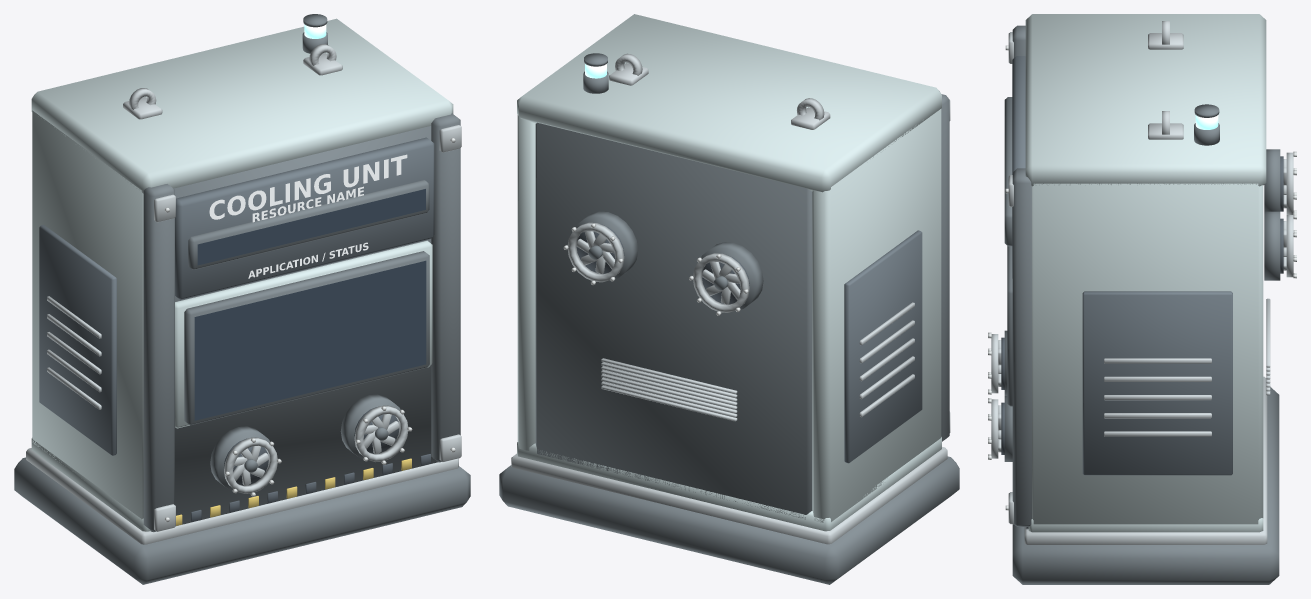
File: cooling_unit_standard.glb
3 views of the same model, side by side, from view 1: azimuth 30°, elevation 25°; view 2: azimuth 150°, elevation 25°; view 3: azimuth 270°, elevation 25° (orthographic). The views are drawn at different scales.
Parts seen in each view (by area): view 1: Roof_ice, LiveViewSurface_glass, SideWall_ice, SealFront_frame, CornerPost_frame, Skid_frame, FrontHeader_graphite, SideServicePanel_graphite, SkidDeck_steel, LiveViewSurfaceFrame_frame, ResourceNameSurface_glass, ScreenSupport_ice (+14 smaller); view 2: BackWall_frame, Roof_ice, SideWall_ice, Skid_frame, SideServicePanel_graphite, SkidDeck_steel, KickPlate_ice, RearFan_steel, RearVent_steel, CornerPost_frame, RearFan_frame, SideLouver_steel (+3 smaller); view 3: SideWall_ice, Roof_ice, SideServicePanel_graphite, Skid_frame, CornerPost_frame, SkidDeck_steel, SideLouver_steel, RearFan_frame, KickPlate_ice, FrontHeader_graphite, RearFan_steel, IntakeFan_steel (+9 smaller).
Boxes of the visible parts, box(x1,y1,x2,y2) form: Roof_ice: box(31, 18, 453, 193); LiveViewSurface_glass: box(194, 260, 426, 420); SideWall_ice: box(32, 110, 143, 519); SealFront_frame: box(150, 126, 438, 531); CornerPost_frame: box(143, 113, 460, 532); Skid_frame: box(14, 457, 470, 584); FrontHeader_graphite: box(175, 137, 434, 299); SideServicePanel_graphite: box(39, 224, 116, 455); SkidDeck_steel: box(26, 448, 458, 544); LiveViewSurfaceFrame_frame: box(184, 251, 429, 425); ResourceNameSurface_glass: box(197, 189, 425, 265); ScreenSupport_ice: box(175, 240, 432, 428); BackWall_frame: box(535, 122, 812, 519); Roof_ice: box(517, 14, 941, 192); SideWall_ice: box(517, 109, 941, 522); Skid_frame: box(499, 456, 959, 584); SideServicePanel_graphite: box(844, 230, 922, 463); SkidDeck_steel: box(511, 447, 947, 544); KickPlate_ice: box(517, 437, 941, 531); RearFan_steel: box(567, 222, 749, 312); RearVent_steel: box(601, 358, 737, 421); CornerPost_frame: box(941, 94, 949, 441); RearFan_frame: box(576, 211, 763, 311); SideLouver_steel: box(859, 302, 914, 417); SideWall_ice: box(1032, 183, 1263, 524); Roof_ice: box(1025, 14, 1266, 186); SideServicePanel_graphite: box(1082, 291, 1232, 475); Skid_frame: box(1012, 387, 1279, 584); CornerPost_frame: box(1012, 25, 1031, 526); SkidDeck_steel: box(1024, 376, 1267, 544); SideLouver_steel: box(1104, 358, 1211, 436); RearFan_frame: box(1264, 149, 1280, 280); KickPlate_ice: box(1028, 518, 1263, 532); FrontHeader_graphite: box(1012, 56, 1025, 278); RearFan_steel: box(1283, 152, 1293, 277); IntakeFan_steel: box(991, 334, 1001, 458).
Bounding box in the file's own units: 2 × 2.48 × 1.55.
